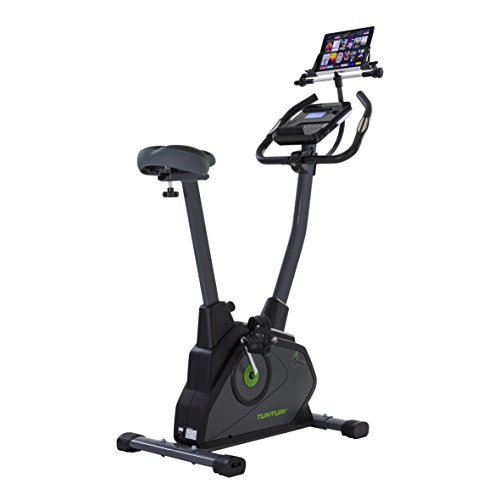gym_bike: (129, 44, 390, 458)
